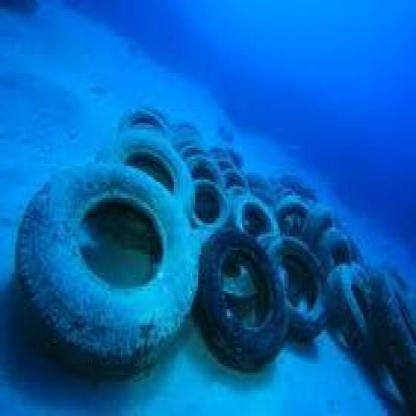tire: (21, 157, 201, 386), (202, 220, 282, 373), (127, 116, 197, 232), (264, 232, 334, 336), (228, 186, 283, 262), (188, 180, 230, 234)
